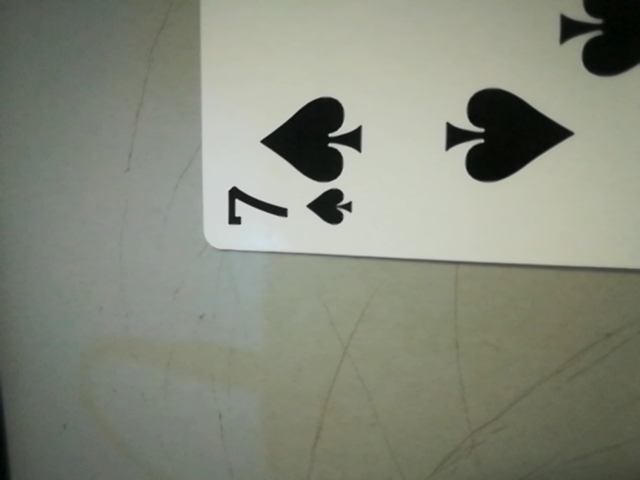ht 7: (211, 176, 360, 242)
